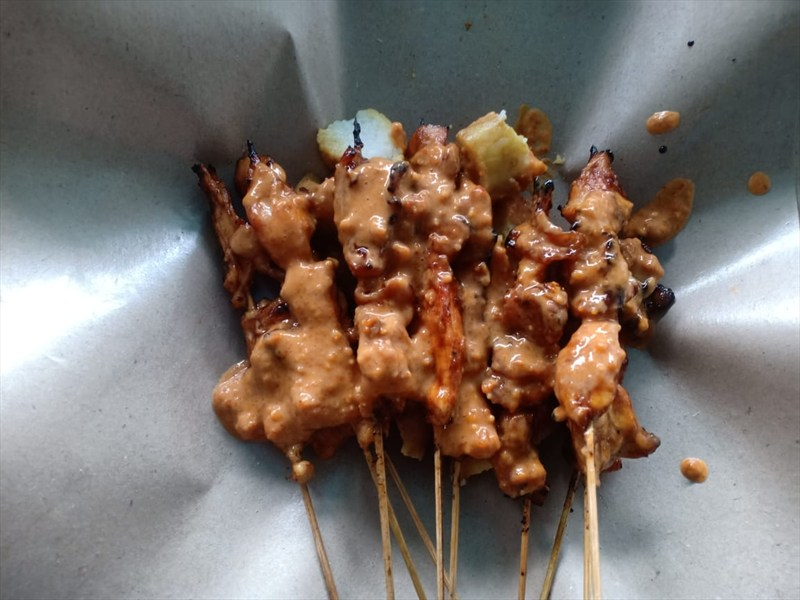Sate Ayam: (212, 129, 658, 486)
